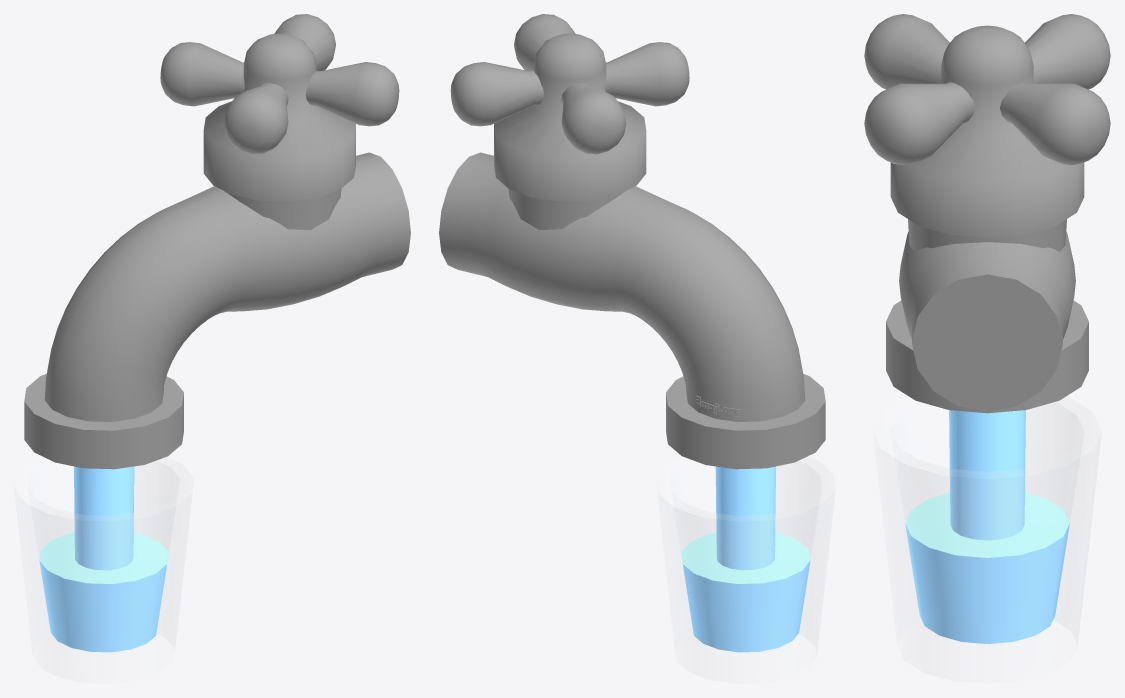
Rendered from potable_water.gltf.
3 renders of one model, left to right at view 1: azimuth 30°, elevation 25°; view 2: azimuth 150°, elevation 25°; view 3: azimuth 270°, elevation 25°, orthographic. The views are drawn at different scales.
Parts seen in each view (by area): view 1: Torus.003; view 2: Torus.003; view 3: Torus.003.
Boxes of the visible parts, box(x1,y1,x2,y2) form: Torus.003: box(14, 14, 410, 683); Torus.003: box(439, 14, 835, 683); Torus.003: box(864, 14, 1110, 683).
Size of the model in its own units: 1.45 by 2.22 by 0.6878.
Materials: 2 (1 with a texture image).
